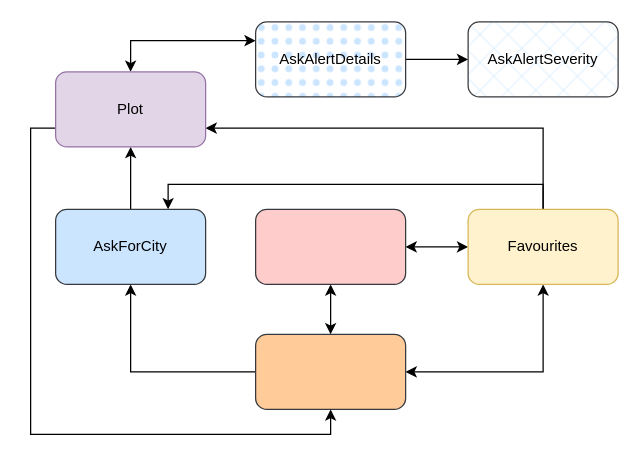
Image size: 640x466. Some labels were removed from this diagram. The centre of each missing label's shape, as x and y in pixels:
"Alerts" belongs at (x=330, y=246).
"Main" belongs at (x=330, y=371).
